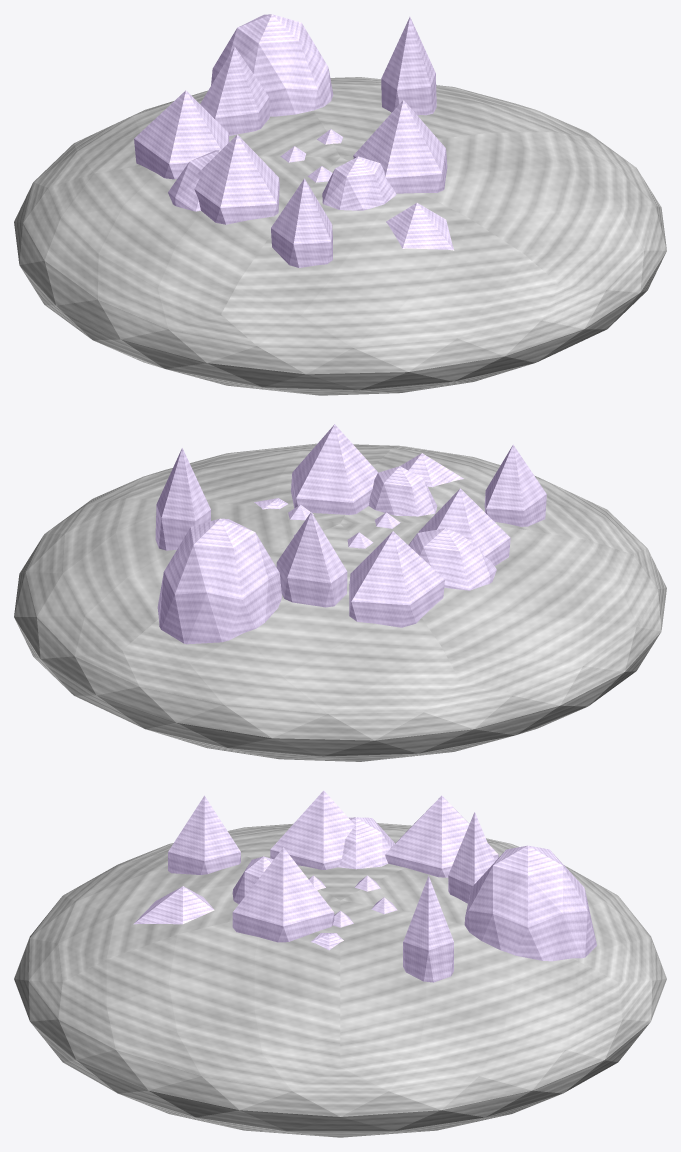
Rendered from sam_node_variant_c.glb.
3 views of the same model, one above another, from view 1: azimuth 30°, elevation 25°; view 2: azimuth 150°, elevation 25°; view 3: azimuth 270°, elevation 25° (orthographic).
Parts seen in each view (by area): view 1: Resource node bedrock.002, Exposed ore formation.024, Exposed ore formation.028, Exposed ore formation.032, Exposed ore formation.026, Exposed ore formation.029, Exposed ore formation.025, Exposed ore formation.022, Exposed ore formation.030, Exposed ore formation.031, Exposed ore formation.027; view 2: Resource node bedrock.002, Exposed ore formation.024, Exposed ore formation.026, Exposed ore formation.032, Exposed ore formation.025, Exposed ore formation.029, Exposed ore formation.027, Exposed ore formation.022, Exposed ore formation.028, Exposed ore formation.030, Exposed ore formation.031; view 3: Resource node bedrock.002, Exposed ore formation.024, Exposed ore formation.032, Exposed ore formation.026, Exposed ore formation.028, Exposed ore formation.022, Exposed ore formation.029, Exposed ore formation.025, Exposed ore formation.027, Exposed ore formation.031, Exposed ore formation.030.
Boxes of the visible parts, x1,y1,x2,y2 form: Resource node bedrock.002: (14, 77, 666, 395); Exposed ore formation.024: (211, 14, 333, 116); Exposed ore formation.028: (194, 134, 279, 224); Exposed ore formation.032: (353, 100, 447, 193); Exposed ore formation.026: (134, 90, 229, 179); Exposed ore formation.029: (271, 178, 332, 267); Exposed ore formation.025: (200, 47, 269, 136); Exposed ore formation.022: (381, 17, 436, 115); Exposed ore formation.030: (322, 156, 396, 210); Exposed ore formation.031: (386, 203, 454, 250); Exposed ore formation.027: (168, 150, 220, 211); Resource node bedrock.002: (14, 443, 666, 761); Exposed ore formation.024: (157, 518, 281, 644); Exposed ore formation.026: (349, 531, 444, 627); Exposed ore formation.032: (291, 424, 377, 515); Exposed ore formation.025: (276, 512, 347, 607); Exposed ore formation.029: (484, 444, 546, 526); Exposed ore formation.027: (408, 528, 496, 590); Exposed ore formation.022: (155, 448, 210, 550); Exposed ore formation.028: (418, 488, 510, 565); Exposed ore formation.030: (368, 466, 437, 516); Exposed ore formation.031: (400, 453, 463, 487); Resource node bedrock.002: (14, 823, 666, 1137); Exposed ore formation.024: (464, 845, 596, 961); Exposed ore formation.032: (232, 847, 334, 942); Exposed ore formation.026: (385, 795, 498, 877); Exposed ore formation.028: (270, 790, 354, 869); Exposed ore formation.022: (403, 875, 453, 982); Exposed ore formation.029: (168, 795, 240, 874); Exposed ore formation.025: (448, 812, 495, 903); Exposed ore formation.027: (338, 817, 394, 869); Exposed ore formation.031: (133, 886, 214, 924); Exposed ore formation.030: (232, 856, 273, 904).
Size of what is drawn, in the model's own units: 6.4 by 2.57 by 6.4.
2 materials, 2 textured.
